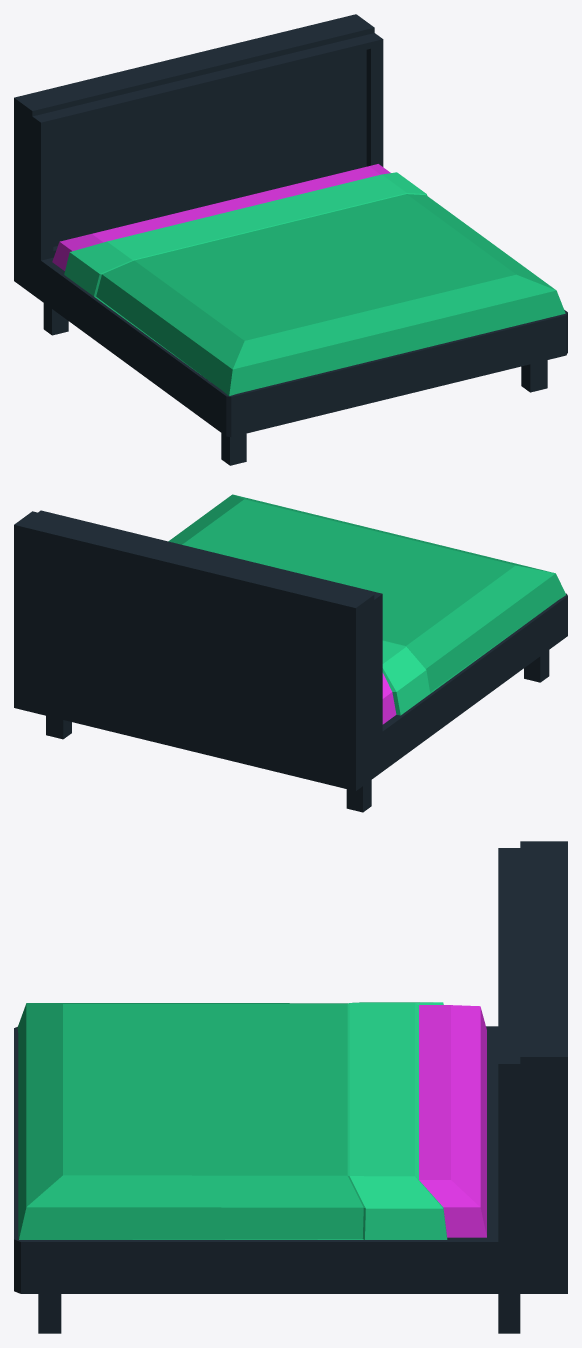
The model's file is Prop_Bed_Dark.fbx.
The picture shows the model from 3 angles, top to bottom: view 1: azimuth 30°, elevation 25°; view 2: azimuth 150°, elevation 25°; view 3: azimuth 270°, elevation 25°; orthographic projection. The views are drawn at different scales.
Parts seen in each view (by area): view 1: Cube.070; view 2: Cube.070; view 3: Cube.070.
Part boxes in pixels (x1,y1,x2,y2): Cube.070: [14, 14, 567, 465]; Cube.070: [14, 494, 567, 812]; Cube.070: [14, 841, 567, 1333].
Bounding box in the file's own units: 126 × 77.72 × 137.
